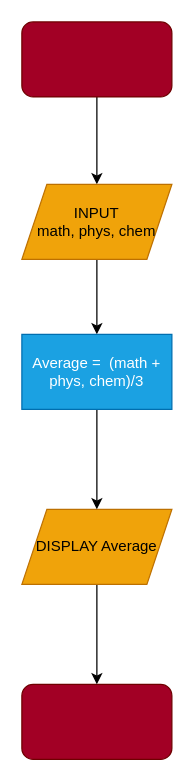
This 194x781 diagram has some shape labels left out. Here are the shapes that lost their labels. From the top down, the centre of each, then its label:
[96,59]: START
[96,721]: END
